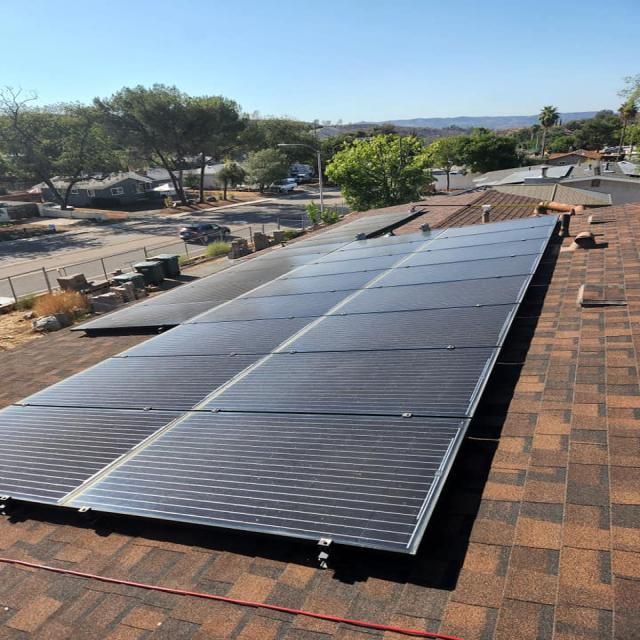dust-solar-panel: (0, 210, 567, 551)
